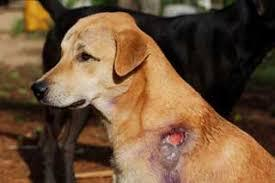infection: (143, 109, 202, 178)
